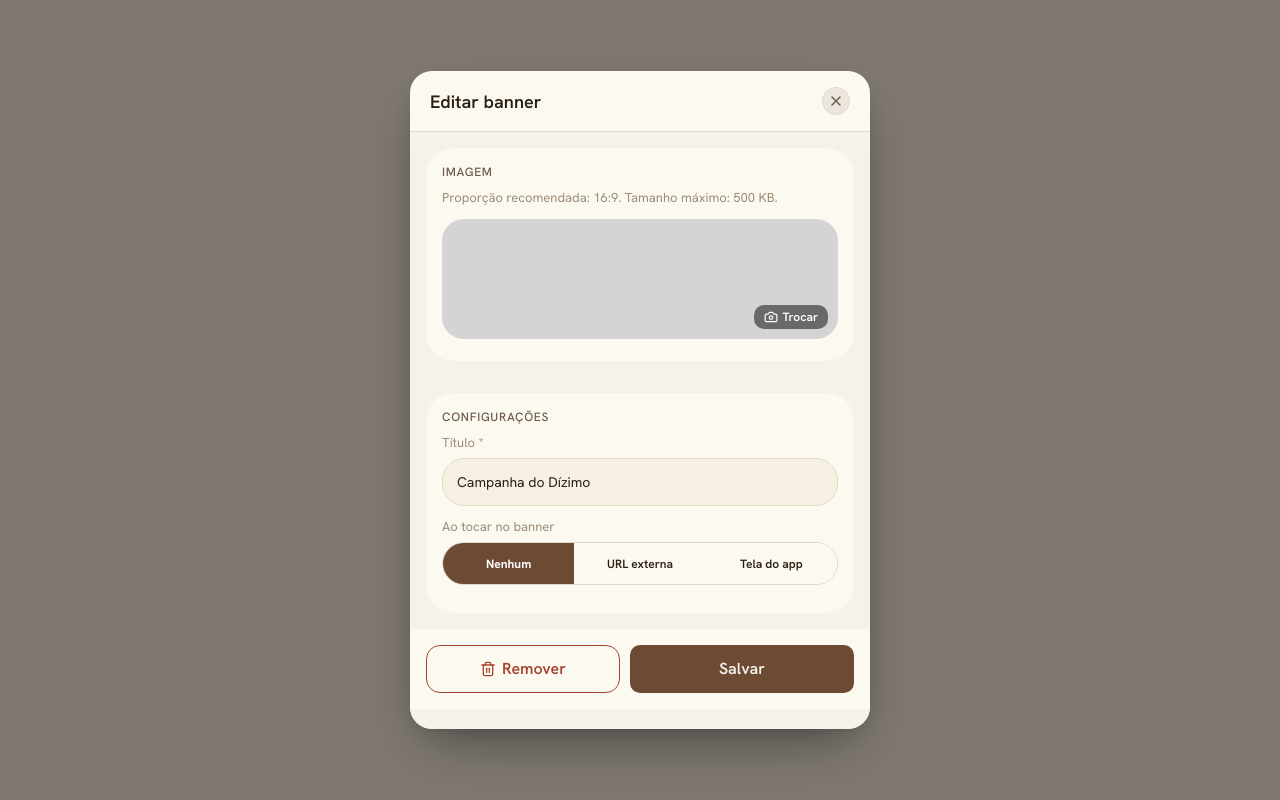
Test case: ModalBannerForm · criação › recusa URL sem http
Click the button "URL externa". click: (640, 563)
box: top-left (574, 543), bottom-right (706, 584)
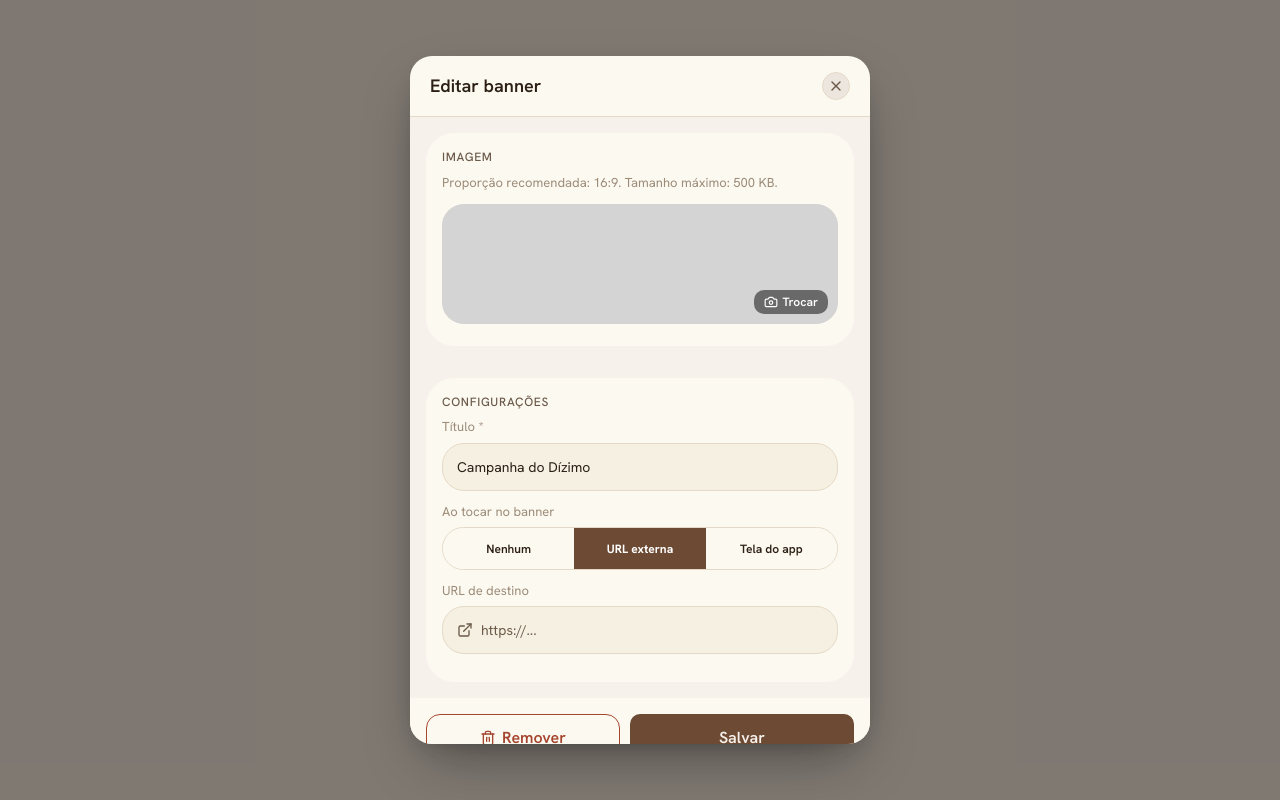
Type "resgatar.com" into the field with placeholder "https://...". click: (652, 630)
box: top-left (481, 607), bottom-right (823, 653)
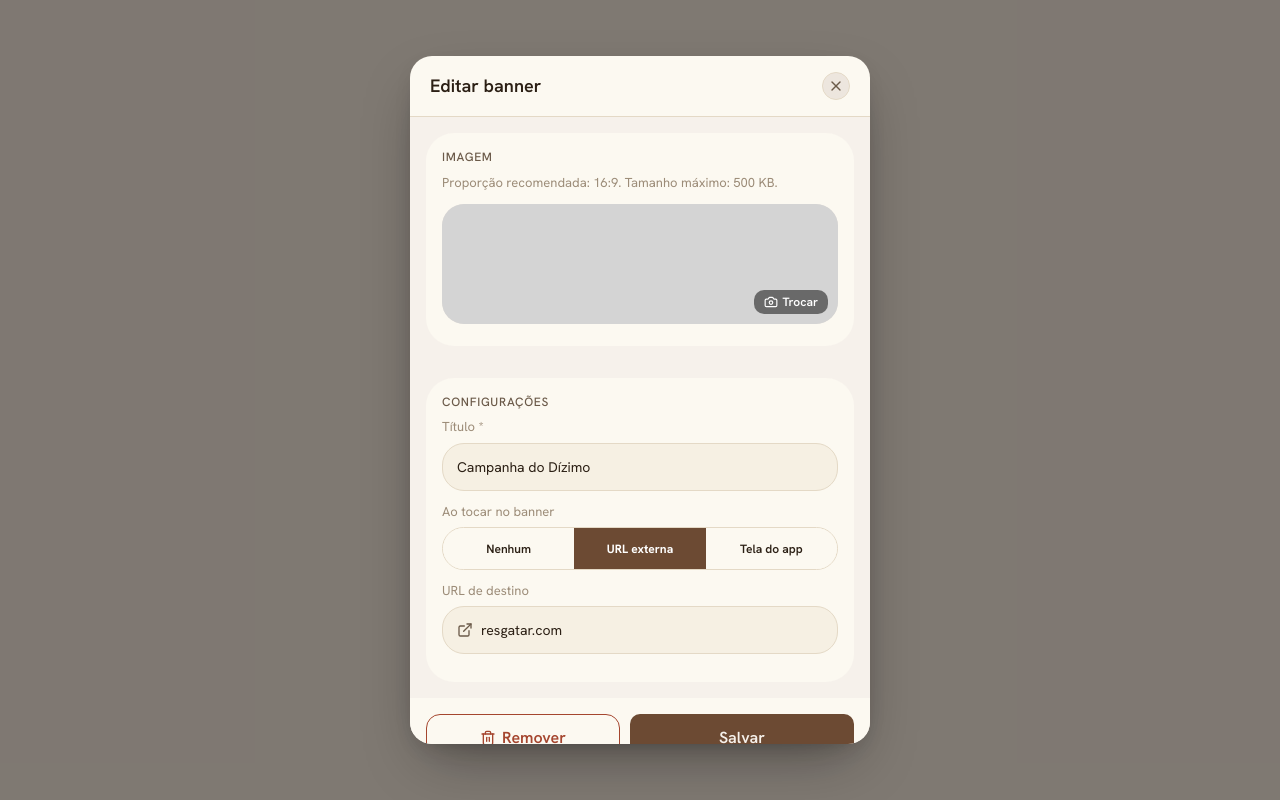
Click the button "Salvar". click: (742, 738)
box: top-left (630, 714), bottom-right (854, 762)
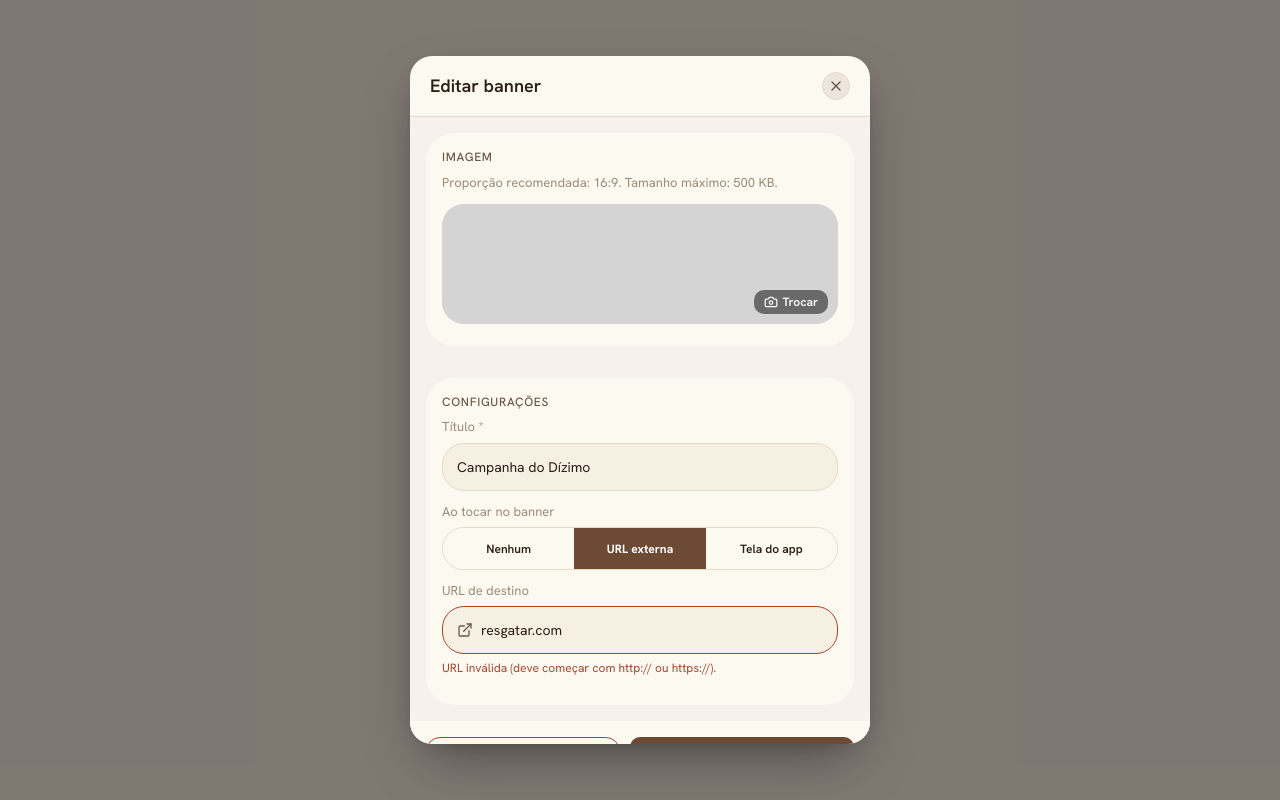
expect the text "URL inválida (deve começar com http:// ou https://)." is shown: met, box top-left (442, 660), bottom-right (716, 676)
